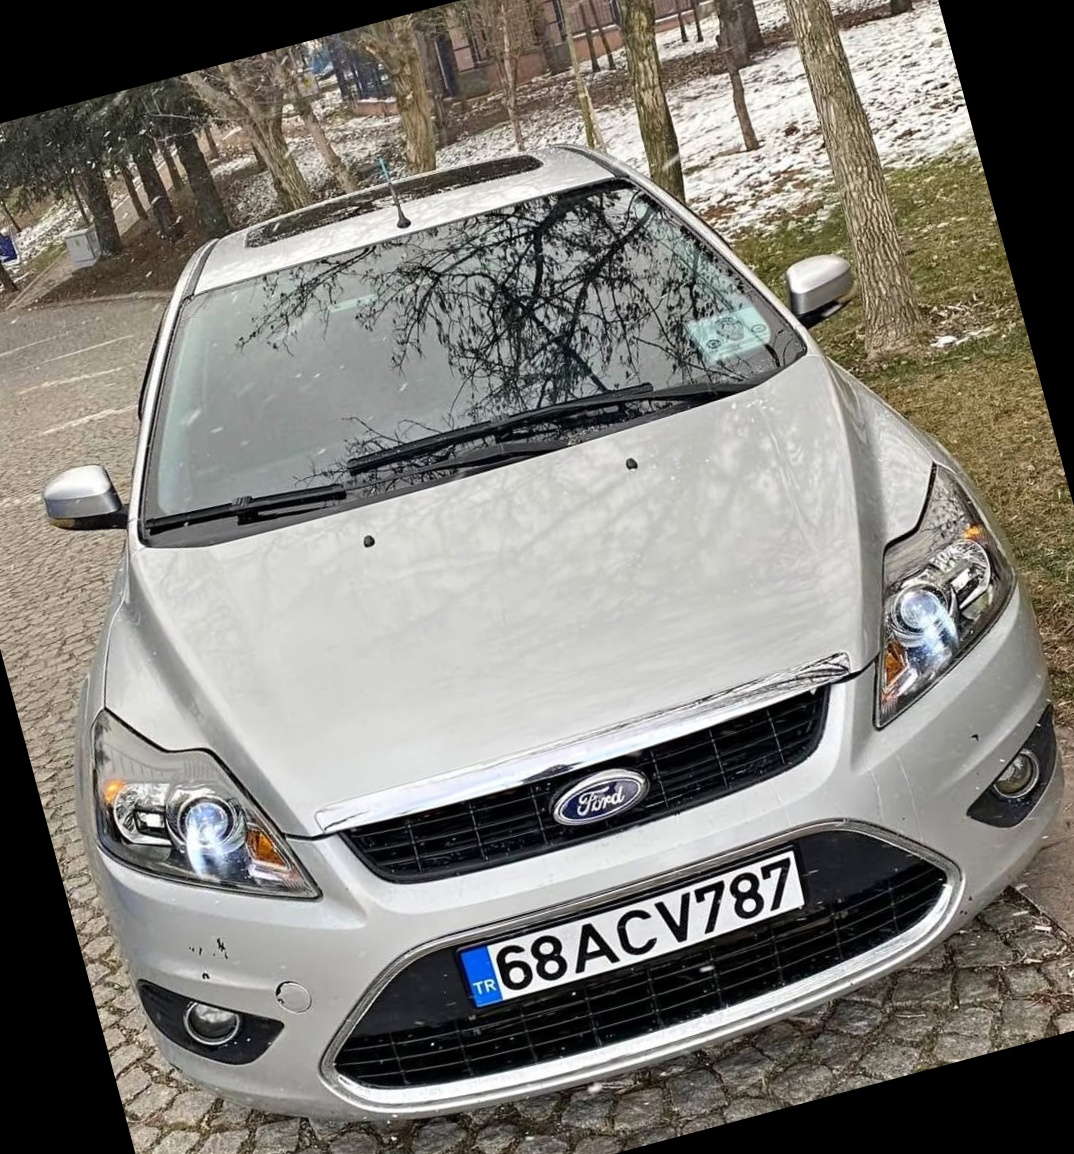plaka: (471, 847, 802, 999)
